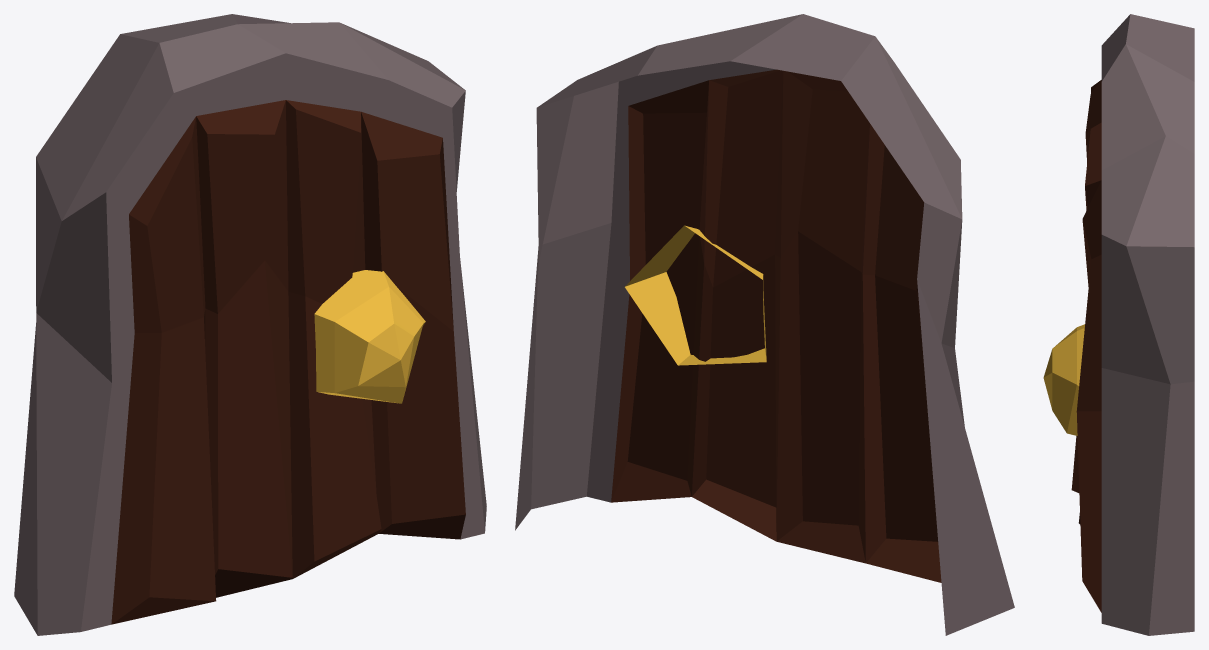
The model's file is SM_L_R_Home_Door.fbx.
The picture shows the model from 3 angles, left to right: view 1: azimuth 30°, elevation 25°; view 2: azimuth 150°, elevation 25°; view 3: azimuth 270°, elevation 25°; orthographic projection. The views are drawn at different scales.
Parts seen in each view (by area): view 1: SM_L_R_Home_Door; view 2: SM_L_R_Home_Door; view 3: SM_L_R_Home_Door.
Part boxes in pixels (x1=…): SM_L_R_Home_Door: x1=14, y1=14, x2=486, y2=635; SM_L_R_Home_Door: x1=515, y1=14, x2=1014, y2=635; SM_L_R_Home_Door: x1=1043, y1=14, x2=1194, y2=635.
Size of the model in its own units: 1.25 by 1.42 by 0.4034.
